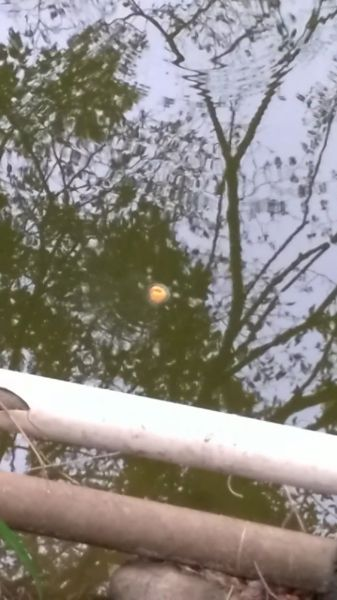eggs: (143, 280, 174, 305)
